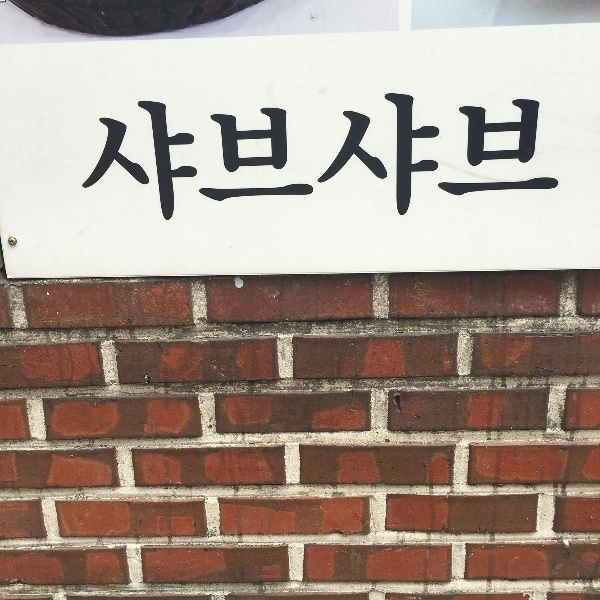text: (97, 88, 112, 228), (113, 88, 128, 228), (129, 88, 144, 228), (145, 88, 160, 228), (161, 88, 176, 228), (177, 88, 192, 228), (193, 88, 208, 228), (209, 88, 224, 228), (225, 88, 240, 228), (241, 88, 256, 228), (257, 88, 272, 228), (273, 88, 288, 228), (289, 88, 304, 228), (305, 88, 320, 228), (321, 88, 336, 228), (337, 88, 352, 228), (353, 88, 368, 228), (369, 88, 384, 228), (385, 88, 400, 228), (401, 88, 416, 228), (417, 88, 432, 228), (433, 88, 448, 228), (449, 88, 464, 228), (465, 88, 480, 228), (481, 88, 496, 228), (497, 88, 512, 228), (513, 88, 528, 228), (529, 88, 544, 228), (545, 88, 560, 228), (90, 88, 96, 228), (561, 88, 562, 228)
